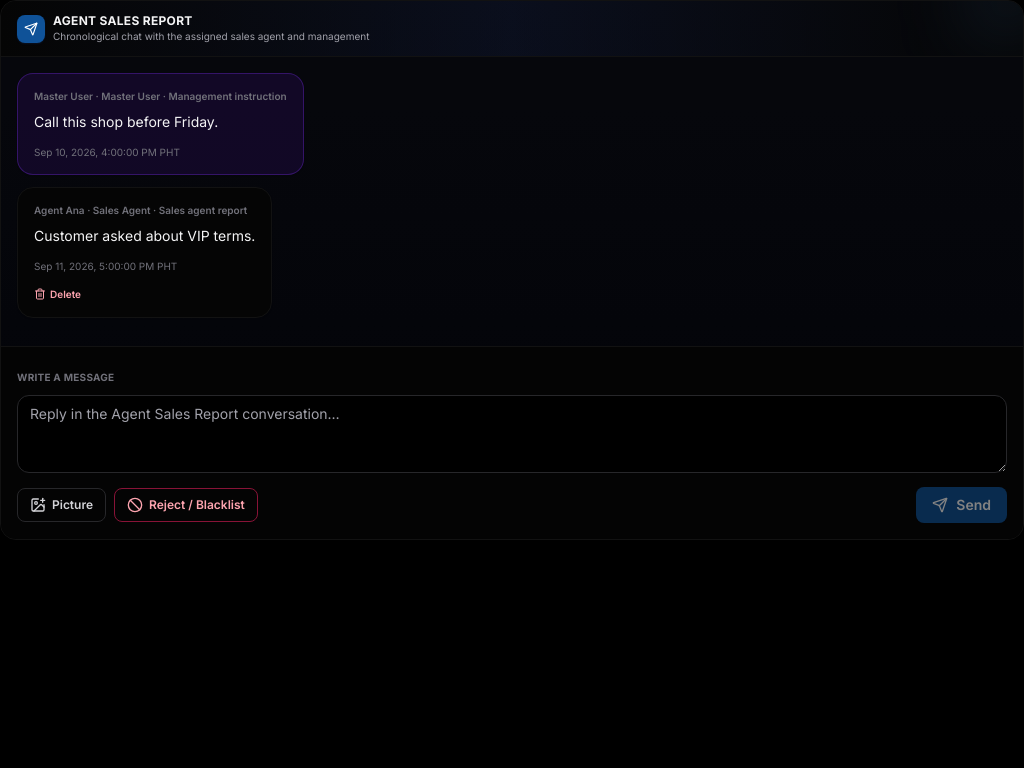
CustomerSalesReportChat › keeps a submitted blacklist request successful when its chat message fails
Expected: the text "Customer asked about VIP terms." is shown, [34,224,255,248]
Click the button "Reject / Blacklist" at (186, 505), box [114,488,258,522]
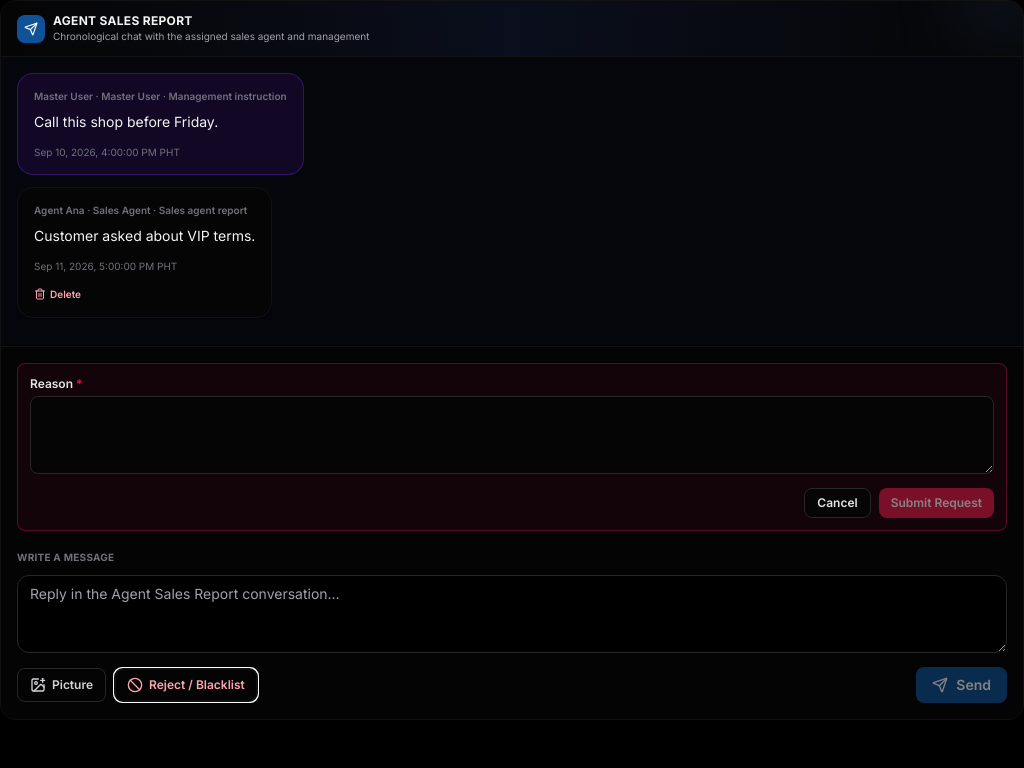
Type "Repeated payment defaults" into the text box labelled "Reason *" at (512, 435), box [30,396,994,474]
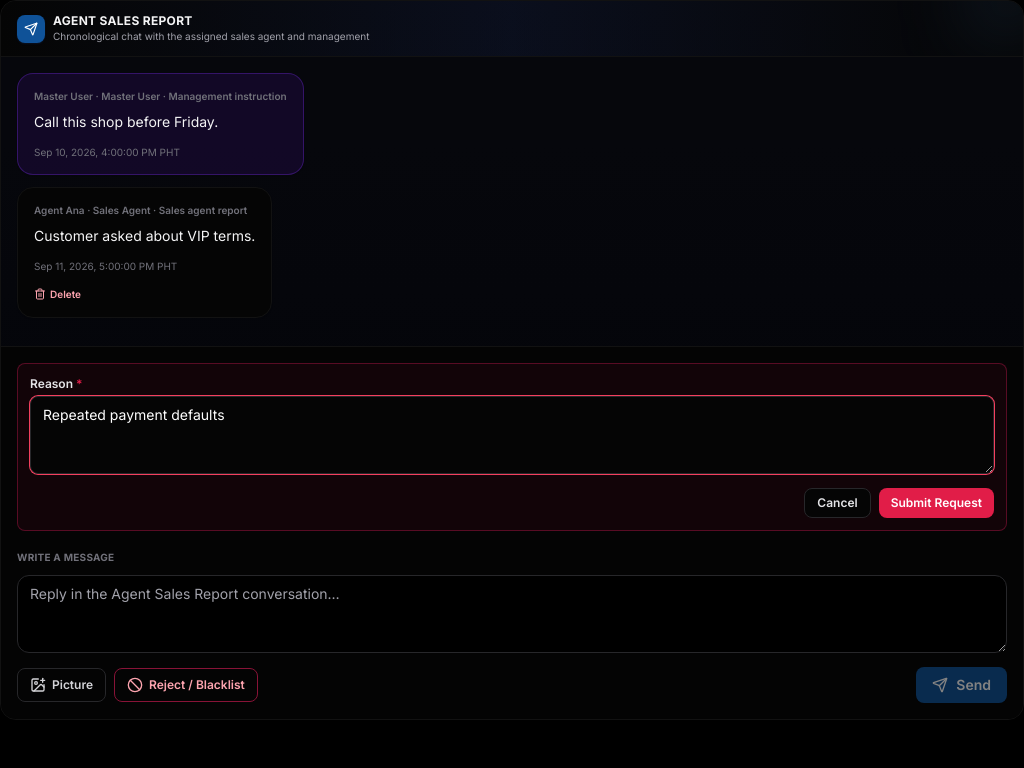
Click the button "Submit Request" at (936, 503), box [879,488,994,518]
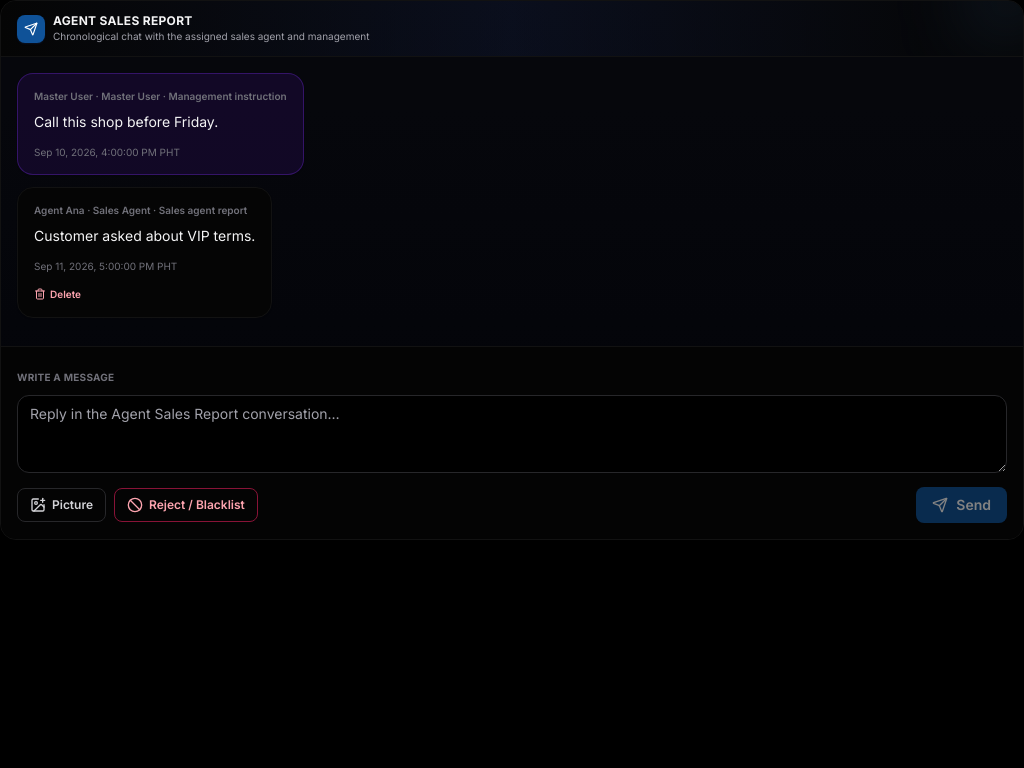
Expected: the label labelled "Reason" is gone
